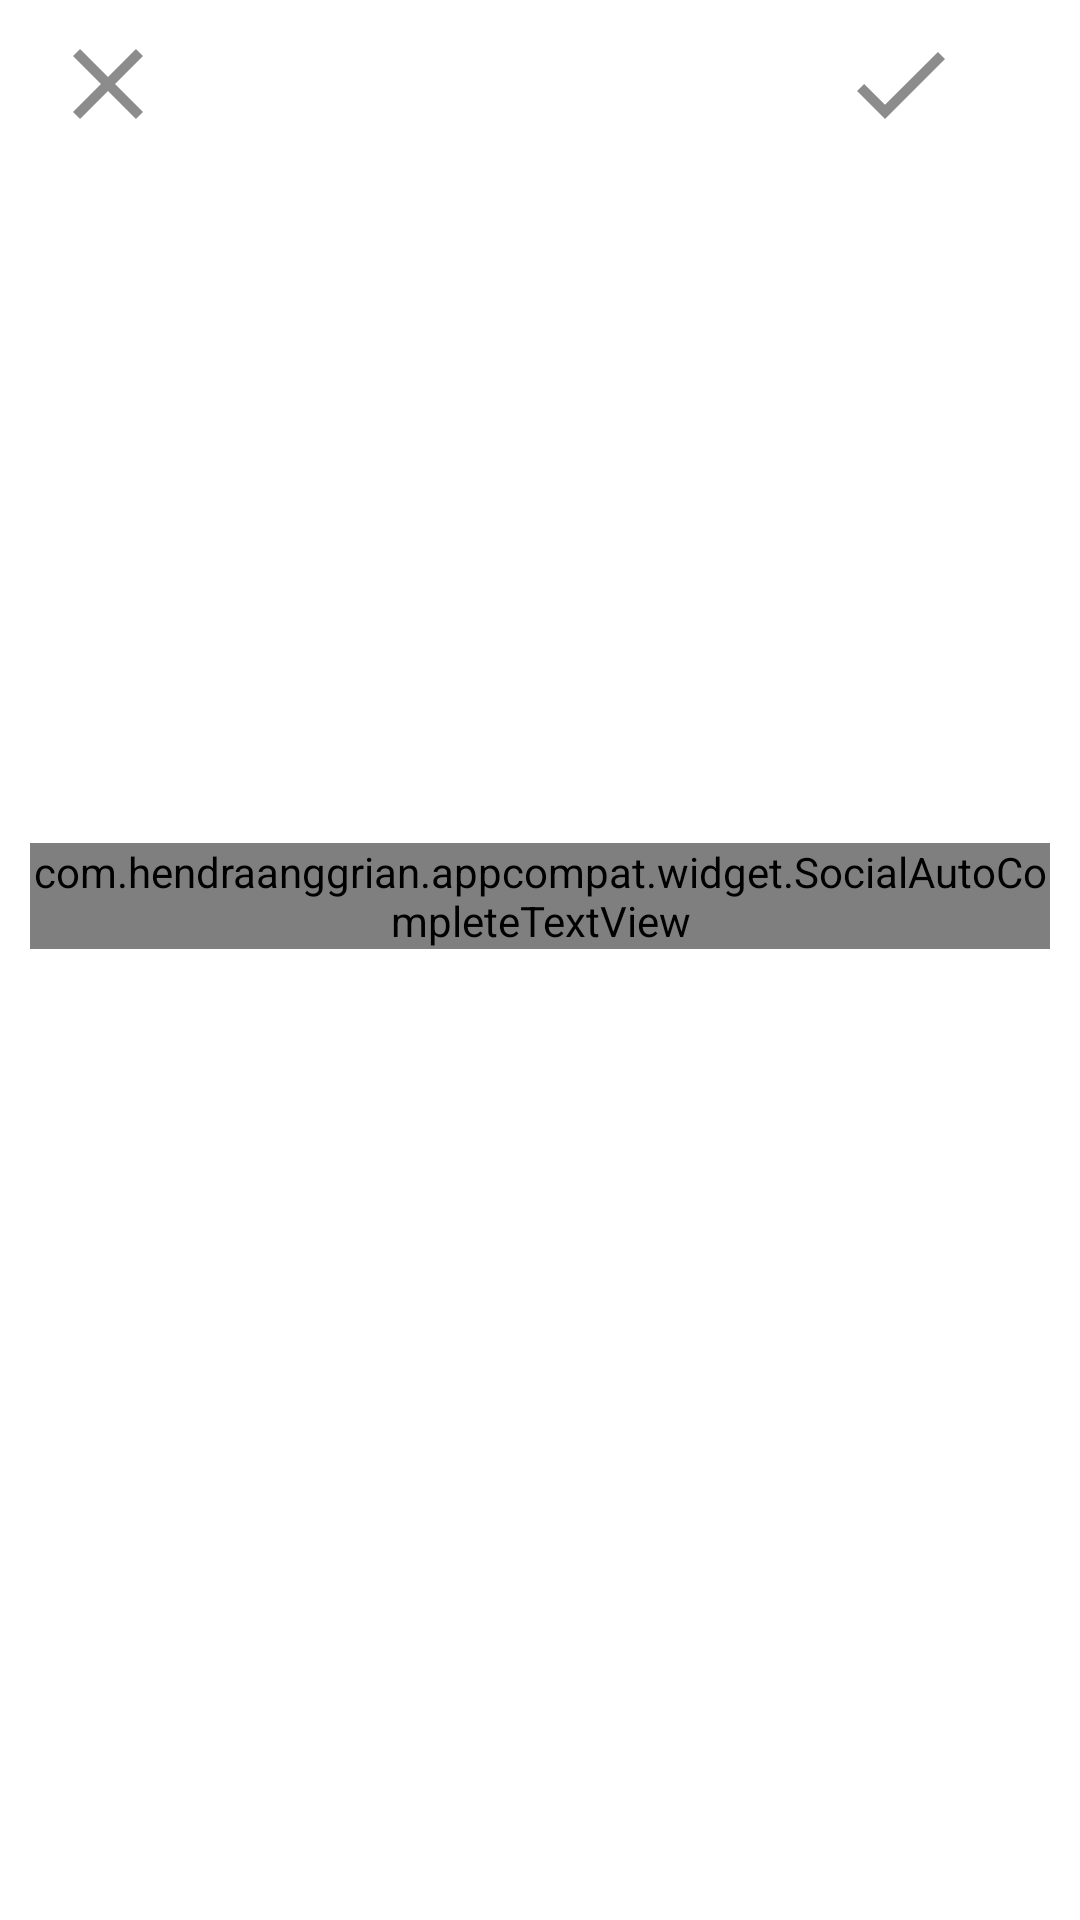

Screen size 1080w x 1920h. Icon name, then its center in pixels as (x,y):
check: (901,85)
close: (108,84)
